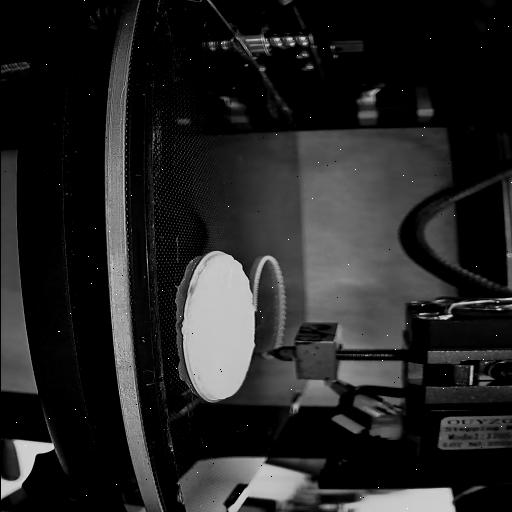over_extrusion: (199, 254, 244, 274)
